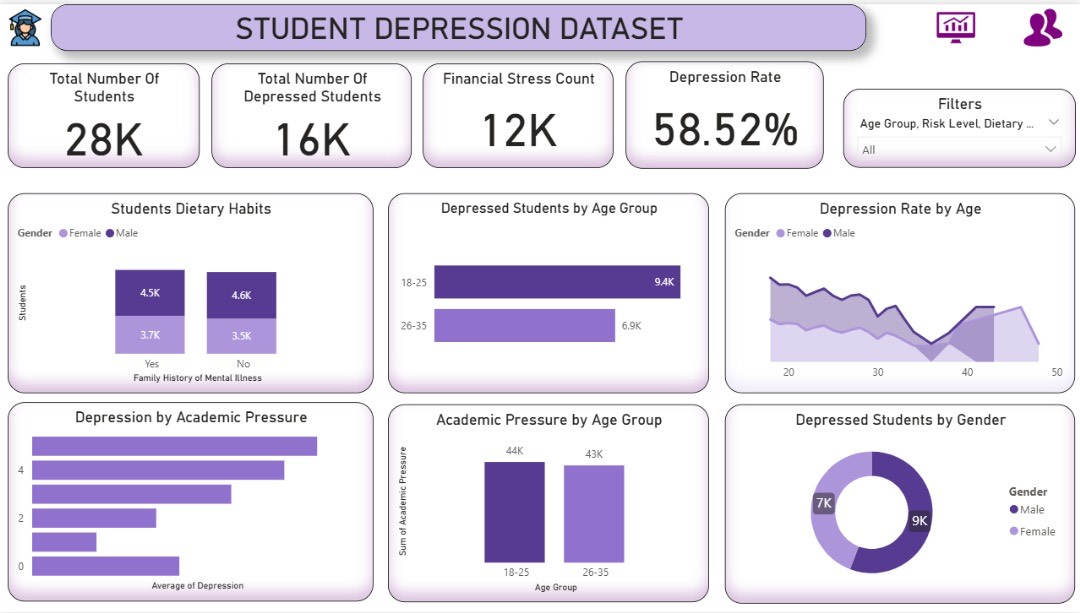

The dashboard page shown, as its layout file describes it:
{"tool":"powerbi","page":{"name":"Overview","canvas":[1280,720],"ordinal":0},"visuals":[{"type":"textbox","title":"STUDENT DEPRESSION DATASET","box":[110,0,805,55],"z":0},{"type":"card","title":"Total Number Of Students","fields":{"Values":["cleaned_student_depression_data.Total Students"]},"box":[10,70,227.1,124.3],"z":1000},{"type":"card","title":"Total Number Of Depressed Students","fields":{"Values":["cleaned_student_depression_data.Depressed Students"]},"box":[251.4,70,237.1,124.3],"z":2000},{"type":"card","title":"Depression Rate","fields":{"Values":["cleaned_student_depression_data.Depression Rate"]},"box":[741.4,67.1,234.3,127.1],"z":3000},{"type":"card","title":"Financial Stress Count","fields":{"Values":["cleaned_student_depression_data.High Financial Stress Count"]},"box":[501.4,70,225.7,124.3],"z":4000},{"type":"donutChart","fields":{"Category":["cleaned_student_depression_data.Gender"],"Y":["cleaned_student_depression_data.Depressed Students"]},"box":[858.6,474.3,414.3,235.7],"z":5000},{"type":"clusteredBarChart","title":"Depression by Academic Pressure","fields":{"Y":["Avg(cleaned_student_depression_data.Depression)"],"Category":["cleaned_student_depression_data.Academic Pressure"]},"box":[10,471.4,432.9,235.7],"z":6000},{"type":"columnChart","title":"Academic Pressure by Age Group","fields":{"Category":["cleaned_student_depression_data.Age Group"],"Y":["Sum(cleaned_student_depression_data.Academic Pressure)"]},"box":[460,474.3,380,234.3],"z":7000},{"type":"clusteredBarChart","fields":{"Category":["cleaned_student_depression_data.Age Group"],"Y":["cleaned_student_depression_data.Depressed Students"]},"box":[460,224.3,380,237.1],"z":8000},{"type":"columnChart","title":"Students Dietary Habits","fields":{"Category":["cleaned_student_depression_data.Family History of Mental Illness"],"Y":["cleaned_student_depression_data.Depressed Students"],"Series":["cleaned_student_depression_data.Gender"]},"box":[10,224.3,432.9,237.1],"z":9000},{"type":"stackedAreaChart","title":"Depression Rate by Age ","fields":{"Category":["cleaned_student_depression_data.Age"],"Series":["cleaned_student_depression_data.Gender"],"Y":["cleaned_student_depression_data.Depression Rate"]},"box":[858.6,224.3,414.3,237.1],"z":10000},{"type":"image","box":[0,0,123.3,66.7],"z":11000},{"type":"slicer","title":"Filters","fields":{"Values":["cleaned_student_depression_data.Age Group","cleaned_student_depression_data.Risk Level","cleaned_student_depression_data.Dietary Habits","cleaned_student_depression_data.Academic Pressure"]},"box":[998.3,100,275,93.3],"z":12000},{"type":"image","box":[1026.7,0,135,83.3],"z":13000},{"type":"image","box":[1175,0,105,83.8],"z":14000},{"type":"pageNavigator","box":[0,0,400,50],"z":14001}]}

Visuals, with their boxes in screenshot pixels (x1, y1, x2, y2), scaled from the page's 1280x720 canvas onto the 1080x613 screenshot:
"STUDENT DEPRESSION DATASET" textbox: rect(93, 0, 772, 47)
"Total Number Of Students" card: rect(8, 60, 200, 165)
"Total Number Of Depressed Students" card: rect(212, 60, 412, 165)
"Depression Rate" card: rect(626, 57, 823, 165)
"Financial Stress Count" card: rect(423, 60, 613, 165)
donutChart - cleaned_student_depression_data.Gender x cleaned_student_depression_data.Depressed Students: rect(724, 404, 1074, 604)
"Depression by Academic Pressure" clusteredBarChart: rect(8, 401, 374, 602)
"Academic Pressure by Age Group" columnChart: rect(388, 404, 709, 603)
clusteredBarChart - cleaned_student_depression_data.Age Group x cleaned_student_depression_data.Depressed Students: rect(388, 191, 709, 393)
"Students Dietary Habits" columnChart: rect(8, 191, 374, 393)
"Depression Rate by Age " stackedAreaChart: rect(724, 191, 1074, 393)
image: rect(0, 0, 104, 57)
"Filters" slicer: rect(842, 85, 1074, 165)
image: rect(866, 0, 980, 71)
image: rect(991, 0, 1079, 71)
pageNavigator: rect(0, 0, 338, 43)
